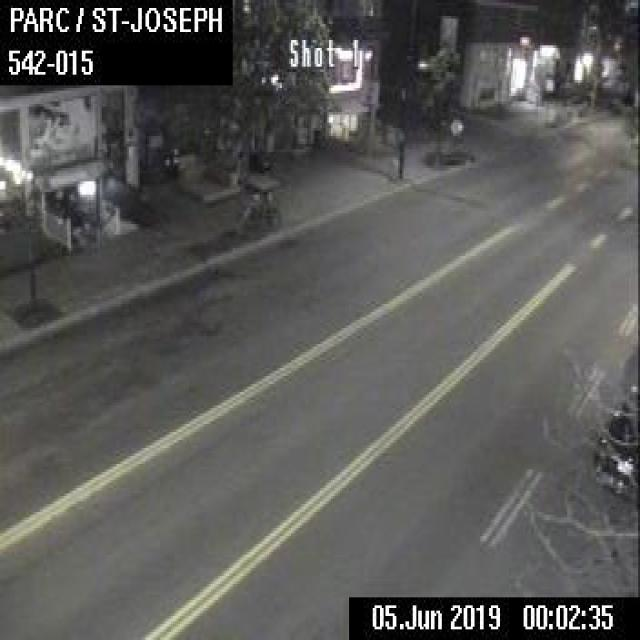vehicle: (589, 376, 638, 496), (635, 496, 638, 499)
